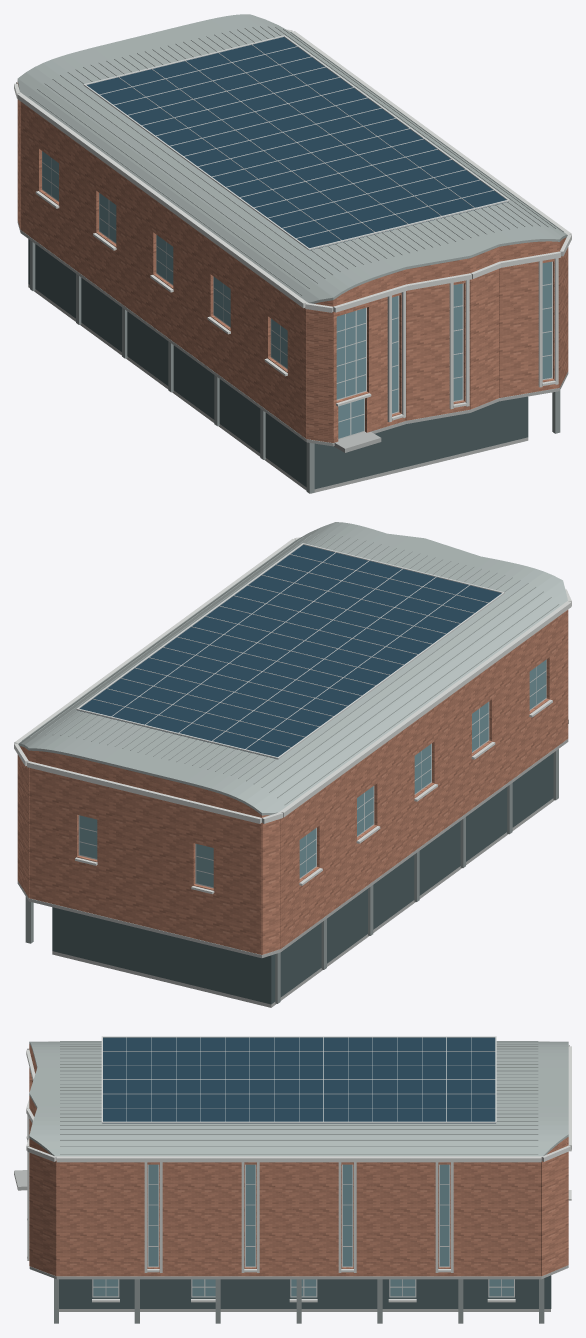
3 renders of one model, top to bottom at view 1: azimuth 30°, elevation 25°; view 2: azimuth 150°, elevation 25°; view 3: azimuth 270°, elevation 25°, orthographic. The views are drawn at different scales.
Visible parts, largest first — view 1: gym__special-brick, gym__special-solar, gym__special-roof, gym__special-dark, gym__special-white, gym__special-frame, gym__special-glass, gym__special-stone, gym__roof-end-closure, gym__support-columns, gym__threshold-south-upper; view 2: gym__special-brick, gym__special-solar, gym__special-roof, gym__special-dark, gym__special-frame, gym__special-white, gym__special-glass, gym__special-stone, gym__roof-end-closure, gym__support-columns; view 3: gym__special-brick, gym__special-solar, gym__special-roof, gym__special-dark, gym__special-white, gym__special-frame, gym__special-glass, gym__special-stone, gym__support-columns, gym__roof-end-closure.
Part boxes in pixels (x1,y1,x2,y2): gym__special-brick: [17, 99, 568, 442]; gym__special-solar: [87, 37, 508, 250]; gym__special-roof: [17, 14, 567, 303]; gym__special-dark: [28, 239, 528, 489]; gym__special-white: [14, 29, 571, 422]; gym__special-frame: [42, 35, 552, 439]; gym__special-glass: [42, 151, 551, 438]; gym__special-stone: [17, 221, 568, 493]; gym__roof-end-closure: [17, 82, 566, 311]; gym__support-columns: [30, 240, 560, 493]; gym__threshold-south-upper: [334, 431, 381, 452]; gym__special-brick: [17, 610, 568, 954]; gym__special-solar: [77, 545, 501, 759]; gym__special-roof: [18, 522, 567, 815]; gym__special-dark: [52, 753, 553, 1004]; gym__special-frame: [76, 543, 546, 888]; gym__special-white: [14, 537, 571, 894]; gym__special-glass: [79, 660, 546, 887]; gym__special-stone: [17, 739, 568, 1007]; gym__roof-end-closure: [20, 746, 269, 817]; gym__support-columns: [25, 749, 558, 1003]; gym__special-brick: [29, 1068, 568, 1276]; gym__special-solar: [102, 1037, 495, 1123]; gym__special-roof: [29, 1041, 568, 1159]; gym__special-dark: [59, 1275, 551, 1308]; gym__special-white: [26, 1041, 571, 1302]; gym__special-frame: [92, 1036, 514, 1297]; gym__special-glass: [93, 1164, 513, 1296]; gym__special-stone: [29, 1265, 568, 1311]; gym__support-columns: [54, 1278, 544, 1323]; gym__roof-end-closure: [29, 1044, 568, 1161].
Bounding box in the file's own units: 20.5 × 15.78 × 41.4.
9 materials, 2 textured.
